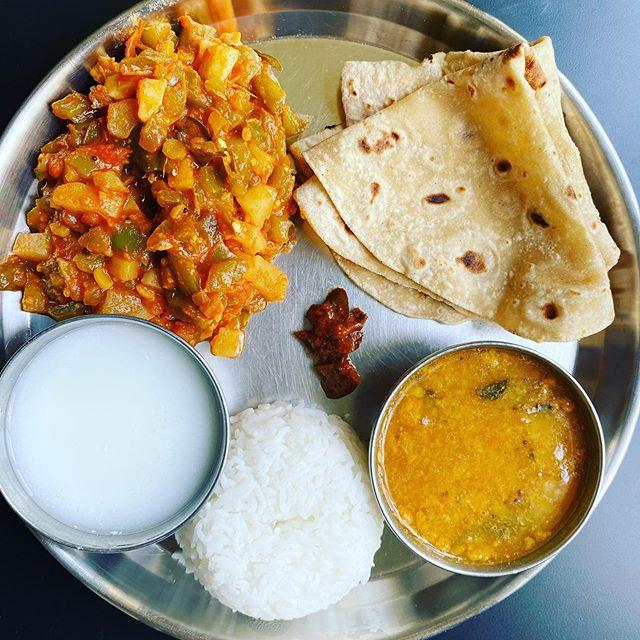Roti: (330, 55, 616, 341)
White Rice: (194, 424, 392, 616)
